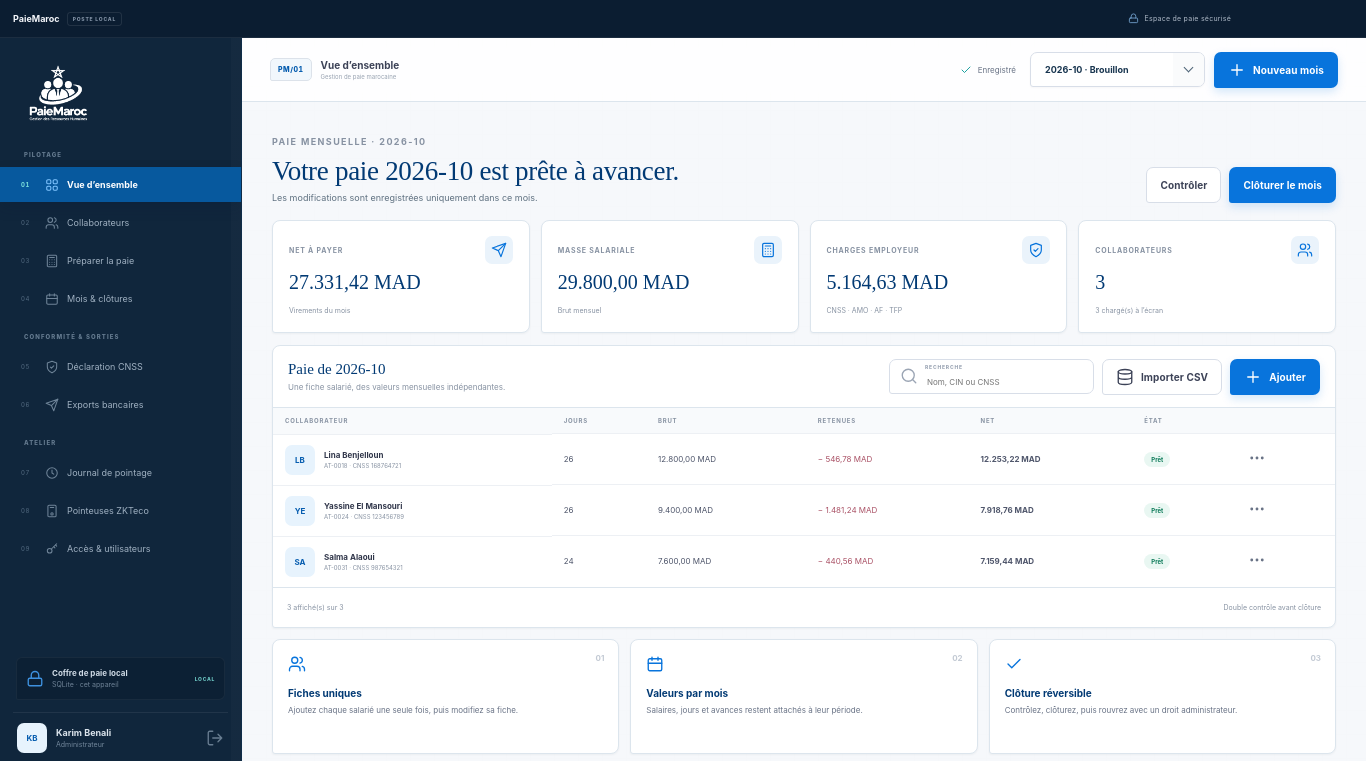
Test: attendance journal › guides the user from raw punches to calendar and work rules
Click the button "07 Journal de pointage" at x=120, y=472, box [0, 455, 241, 490]
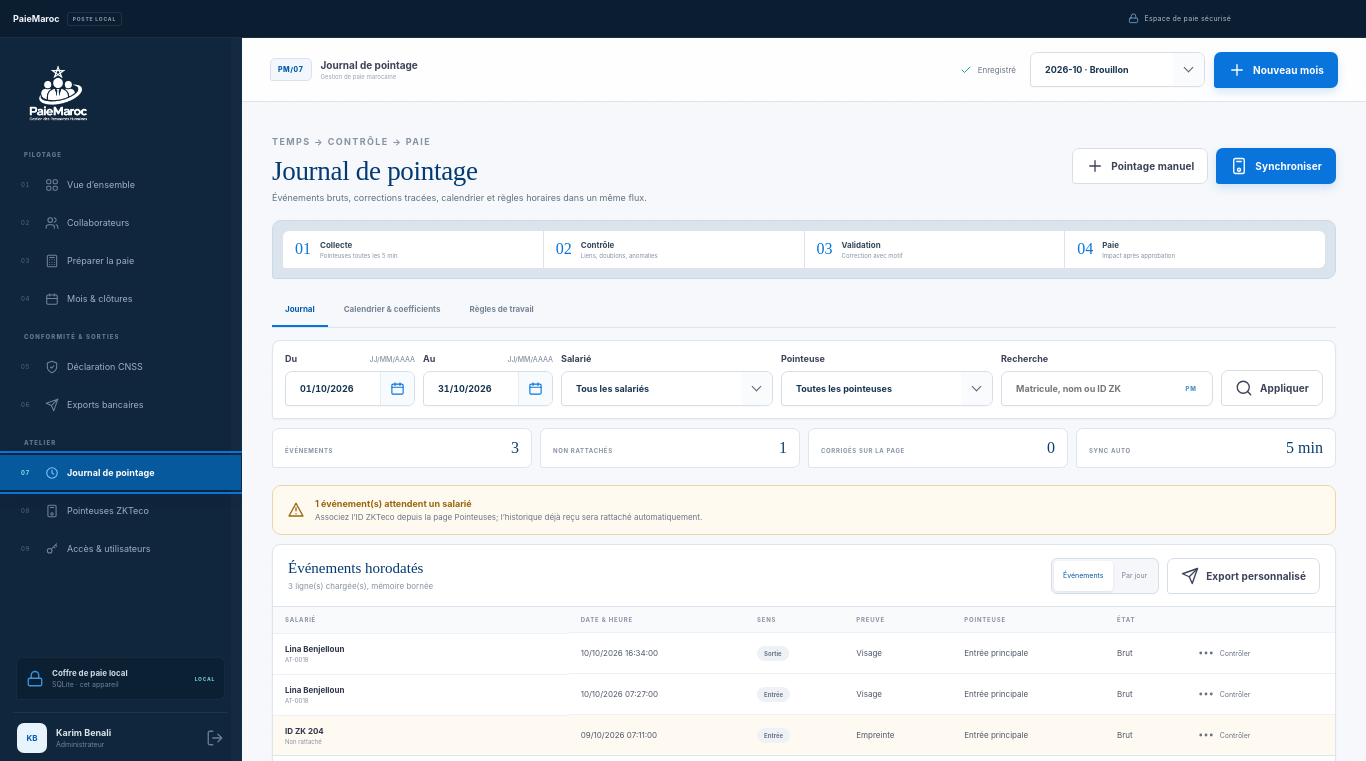
Result: the heading "Journal de pointage" is shown at [272, 156, 478, 186]
Result: the text "1 événement(s) attendent un salarié" is shown at [315, 498, 472, 509]
Click the button "Calendrier & coefficients" at x=392, y=310, box [331, 292, 454, 327]
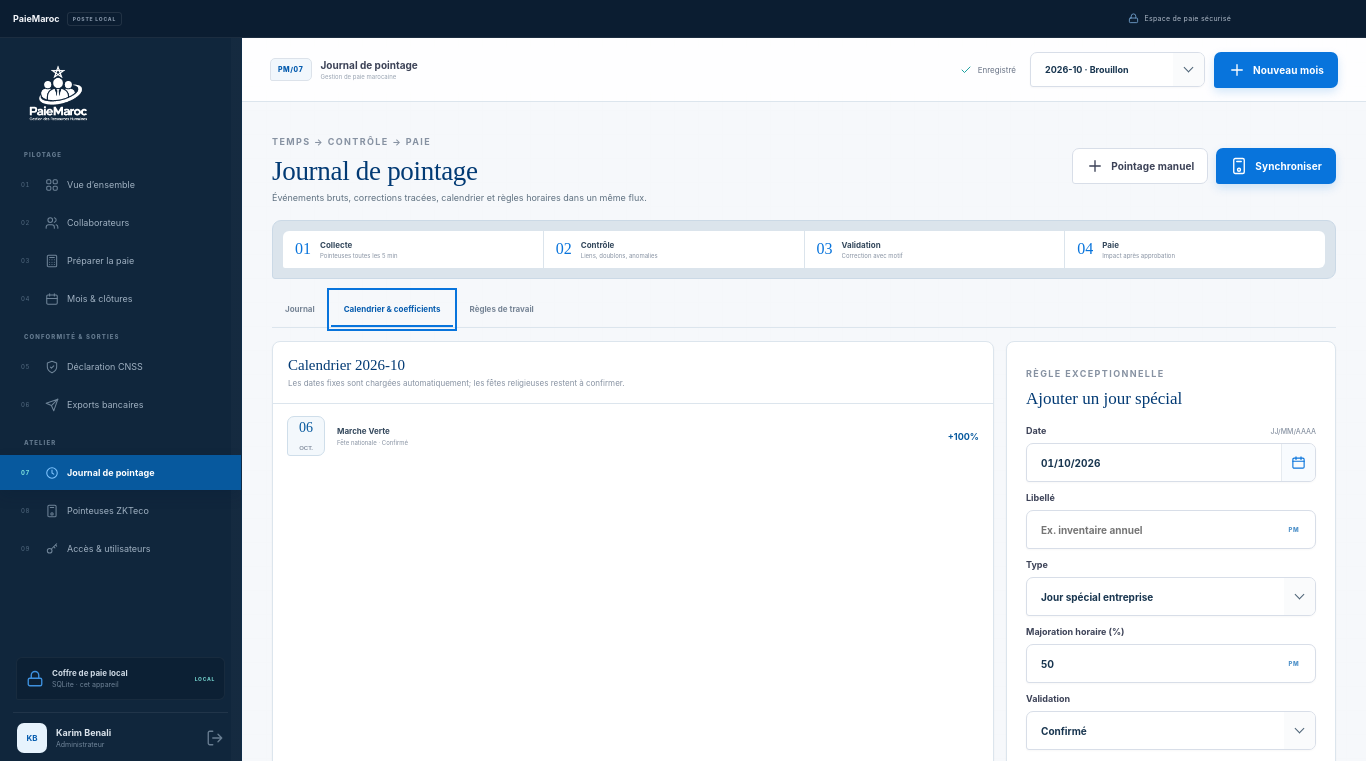
Result: the heading "Calendrier 2026-10" is shown at [288, 357, 405, 373]
Result: the heading "Ajouter un jour spécial" is shown at [1026, 389, 1182, 408]
Click the button "Règles de travail" at x=502, y=310, box [456, 292, 547, 327]
(page scrolled)
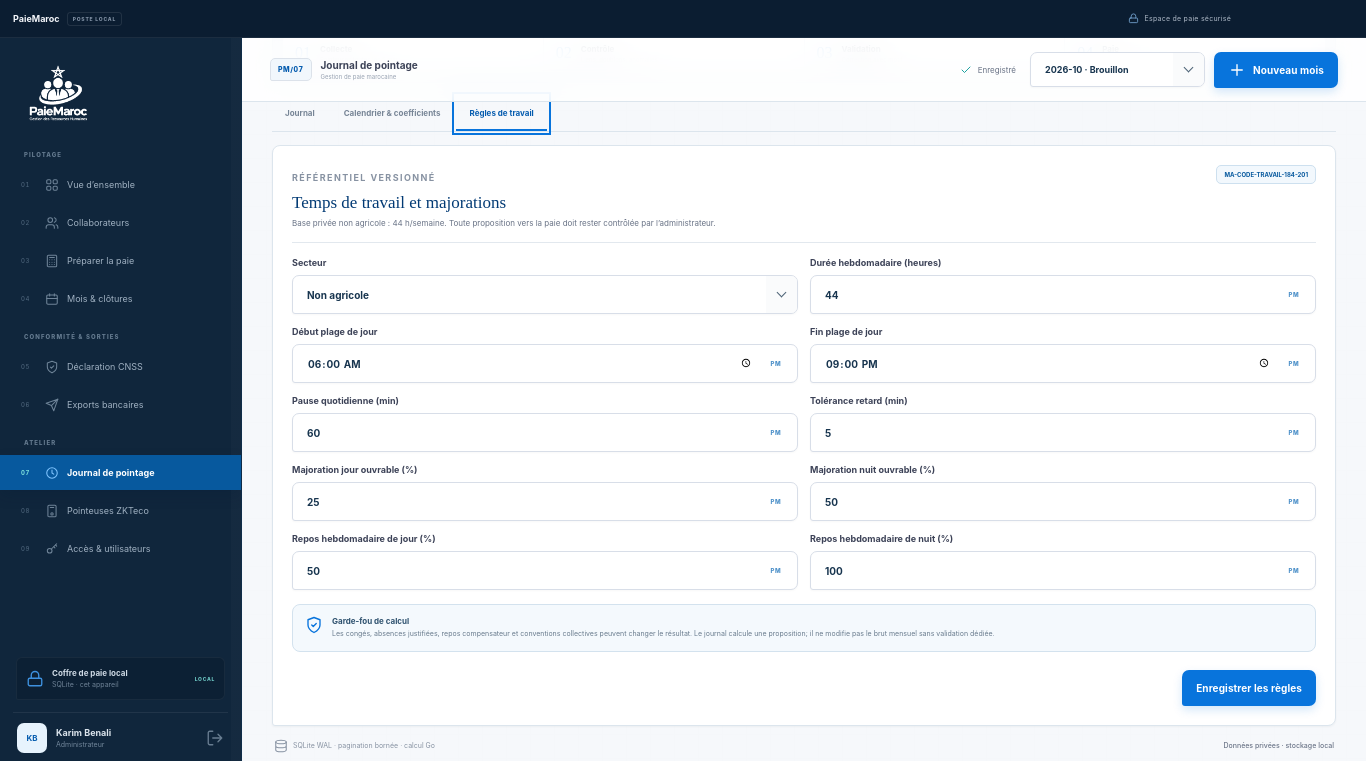
Result: the heading "Temps de travail et majorations" is shown at [292, 193, 506, 212]
Result: the text "Garde-fou de calcul" is shown at [332, 616, 409, 626]
